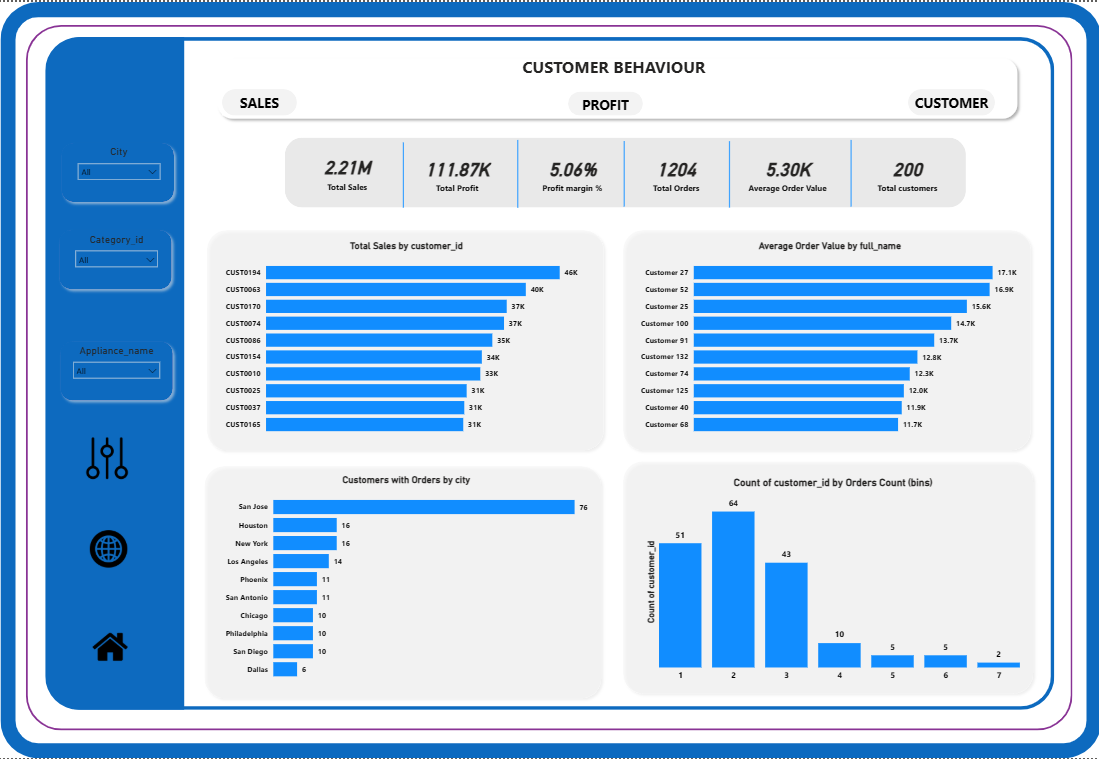

This screenshot's page, from the dashboard's own definition file:
{"tool":"powerbi","page":{"name":"Page 3","canvas":[1850,1250],"ordinal":2},"visuals":[{"type":"shape","box":[484,224,1126,116],"z":0,"group":"g4"},{"type":"shape","box":[342,758,674,402],"z":0},{"type":"shape","box":[14,0,1820,1250],"z":1000},{"type":"shape","box":[346,368,674,382],"z":2000},{"type":"shape","box":[364,84,1340,118],"z":3000,"group":"g5"},{"type":"card","fields":{"Values":["Measures Table.Profit margin %"]},"box":[898,238,122,90],"z":3000,"group":"g4"},{"type":"shape","box":[1034,368,692,382],"z":3000},{"type":"shape","box":[56,38,1730,1166],"z":4000},{"type":"card","fields":{"Values":["Measures Table.Total Profit"]},"box":[708,238,122,90],"z":5000,"group":"g4"},{"type":"clusteredBarChart","fields":{"Y":["Measures Table.Total Sales"],"Category":["vw_clean_customers.customer_id"]},"box":[380,394,610,332],"z":5000},{"type":"clusteredBarChart","fields":{"Y":["Measures Table.Average Order Value"],"Category":["vw_clean_customers.full_name"]},"box":[1066,394,638,332],"z":6000},{"type":"shape","box":[88,58,1668,1112],"z":7000},{"type":"card","fields":{"Values":["Measures Table.Total Sales"]},"box":[526.9,235.9,122,90],"z":7000,"group":"g4"},{"type":"shape","box":[90,58,228,1112],"z":8000},{"type":"group","id":"g1","title":"Group 1","box":[106,224,204,116],"z":9000},{"type":"card","fields":{"Values":["Measures Table.Total customers"]},"box":[1452,238,122,90],"z":9000,"group":"g4"},{"type":"group","id":"g2","title":"Group 2","box":[102,368,204,116],"z":10000},{"type":"card","fields":{"Values":["Measures Table.Average Order Value"]},"box":[1242,238,146,90],"z":11000,"group":"g4"},{"type":"group","id":"g3","title":"Group 4","box":[104,552,204,116],"z":12000},{"type":"group","id":"g4","title":"Group 5","box":[484,224,1126,116],"z":13000},{"type":"card","fields":{"Values":["Measures Table.Total Orders"]},"box":[1070,238,122,90],"z":13000,"group":"g4"},{"type":"shape","box":[1034,750,696,402],"z":14000},{"type":"textbox","box":[840,84,376,48],"z":14002,"group":"g5"},{"type":"group","id":"g5","title":"Group 11","box":[364,84,1340,118],"z":15000},{"type":"shape","box":[670,232,20,108],"z":15000,"group":"g4"},{"type":"actionButton","title":"SALES","box":[380,144,124,44],"z":16000},{"type":"shape","box":[104,552,204,116],"z":16000,"group":"g3"},{"type":"actionButton","title":"SALES","box":[1514,144,144,44],"z":17000},{"type":"shape","box":[1408,228,24,110],"z":17000,"group":"g4"},{"type":"slicer","title":"Appliance_name","fields":{"Values":["products.appliance_name"]},"box":[124.5,566,164,88],"z":17000,"group":"g3"},{"type":"actionButton","title":"SALES","box":[952,148,124,40],"z":18000},{"type":"shape","box":[106,224,204,116],"z":18000,"group":"g1"},{"type":"shape","box":[1212,230,14,110],"z":19000,"group":"g4"},{"type":"slicer","title":"City","fields":{"Values":["customers.city"]},"box":[132,238,156,86],"z":19000,"group":"g1"},{"type":"shape","box":[1034,230,22,108],"z":20000,"group":"g4"},{"type":"shape","box":[102,368,204,116],"z":20000,"group":"g2"},{"type":"clusteredColumnChart","fields":{"Category":["Customer Orders Summary.Orders Count (bins)"],"Y":["CountNonNull(Customer Orders Summary.customer_id)"]},"box":[1076,784,628,348],"z":20000},{"type":"clusteredBarChart","fields":{"Y":["Measures Table.Customers with Orders"],"Category":["vw_clean_customers.city"]},"box":[380,780,610,352],"z":21000},{"type":"image","box":[154,1032,82,68],"z":21001},{"type":"image","box":[146,868,94,72],"z":21002},{"type":"image","box":[146,714,88,80],"z":21003},{"type":"shape","box":[858,228,22,112],"z":22000,"group":"g4"},{"type":"slicer","title":"Category_id","fields":{"Values":["products.category_id"]},"box":[128.5,382,156,88],"z":22000,"group":"g2"}]}

Visuals, with their boxes in screenshot pixels (x1, y1, x2, y2), scaled from the page's 1850x1250 canvas onto the 1099x759 screenshot:
shape: left=288, top=136, right=956, bottom=206
shape: left=203, top=460, right=604, bottom=704
shape: left=8, top=0, right=1089, bottom=758
shape: left=206, top=223, right=606, bottom=455
shape: left=216, top=51, right=1012, bottom=123
card - Measures Table.Profit margin %: left=533, top=145, right=606, bottom=199
shape: left=614, top=223, right=1025, bottom=455
shape: left=33, top=23, right=1061, bottom=731
card - Measures Table.Total Profit: left=421, top=145, right=493, bottom=199
clusteredBarChart - Measures Table.Total Sales x vw_clean_customers.customer_id: left=226, top=239, right=588, bottom=441
clusteredBarChart - Measures Table.Average Order Value x vw_clean_customers.full_name: left=633, top=239, right=1012, bottom=441
shape: left=52, top=35, right=1043, bottom=710
card - Measures Table.Total Sales: left=313, top=143, right=385, bottom=198
shape: left=53, top=35, right=189, bottom=710
"Group 1" group: left=63, top=136, right=184, bottom=206
card - Measures Table.Total customers: left=863, top=145, right=935, bottom=199
"Group 2" group: left=61, top=223, right=182, bottom=294
card - Measures Table.Average Order Value: left=738, top=145, right=825, bottom=199
"Group 4" group: left=62, top=335, right=183, bottom=406
"Group 5" group: left=288, top=136, right=956, bottom=206
card - Measures Table.Total Orders: left=636, top=145, right=708, bottom=199
shape: left=614, top=455, right=1028, bottom=699
textbox: left=499, top=51, right=722, bottom=80
"Group 11" group: left=216, top=51, right=1012, bottom=123
shape: left=398, top=141, right=410, bottom=206
"SALES" actionButton: left=226, top=87, right=299, bottom=114
shape: left=62, top=335, right=183, bottom=406
"SALES" actionButton: left=899, top=87, right=985, bottom=114
shape: left=836, top=138, right=851, bottom=205
"Appliance_name" slicer: left=74, top=344, right=171, bottom=397
"SALES" actionButton: left=566, top=90, right=639, bottom=114
shape: left=63, top=136, right=184, bottom=206
shape: left=720, top=140, right=728, bottom=206
"City" slicer: left=78, top=145, right=171, bottom=197
shape: left=614, top=140, right=627, bottom=205
shape: left=61, top=223, right=182, bottom=294
clusteredColumnChart - Customer Orders Summary.Orders Count (bins) x CountNonNull(Customer Orders Summary.customer_id): left=639, top=476, right=1012, bottom=687
clusteredBarChart - Measures Table.Customers with Orders x vw_clean_customers.city: left=226, top=474, right=588, bottom=687
image: left=91, top=627, right=140, bottom=668
image: left=87, top=527, right=143, bottom=571
image: left=87, top=434, right=139, bottom=482
shape: left=510, top=138, right=523, bottom=206
"Category_id" slicer: left=76, top=232, right=169, bottom=285
